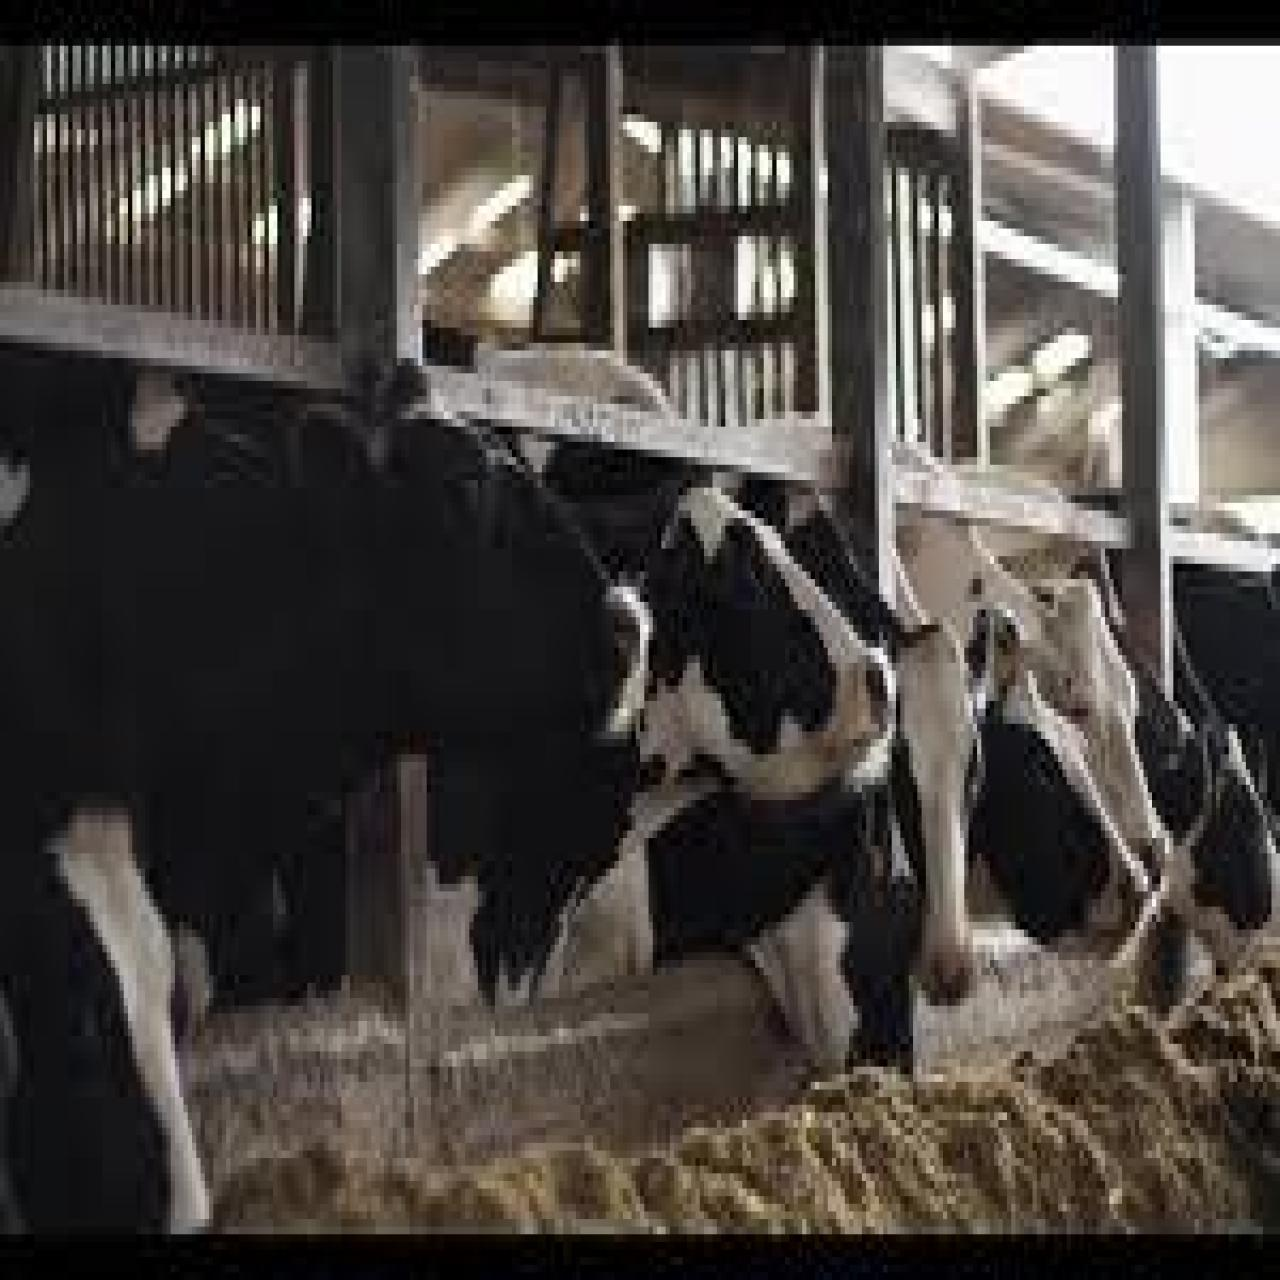cow: (0, 339, 653, 1024), (411, 472, 898, 990), (653, 479, 990, 1013), (887, 506, 1182, 896), (1058, 533, 1280, 982), (0, 803, 213, 1238), (973, 674, 1156, 956)
